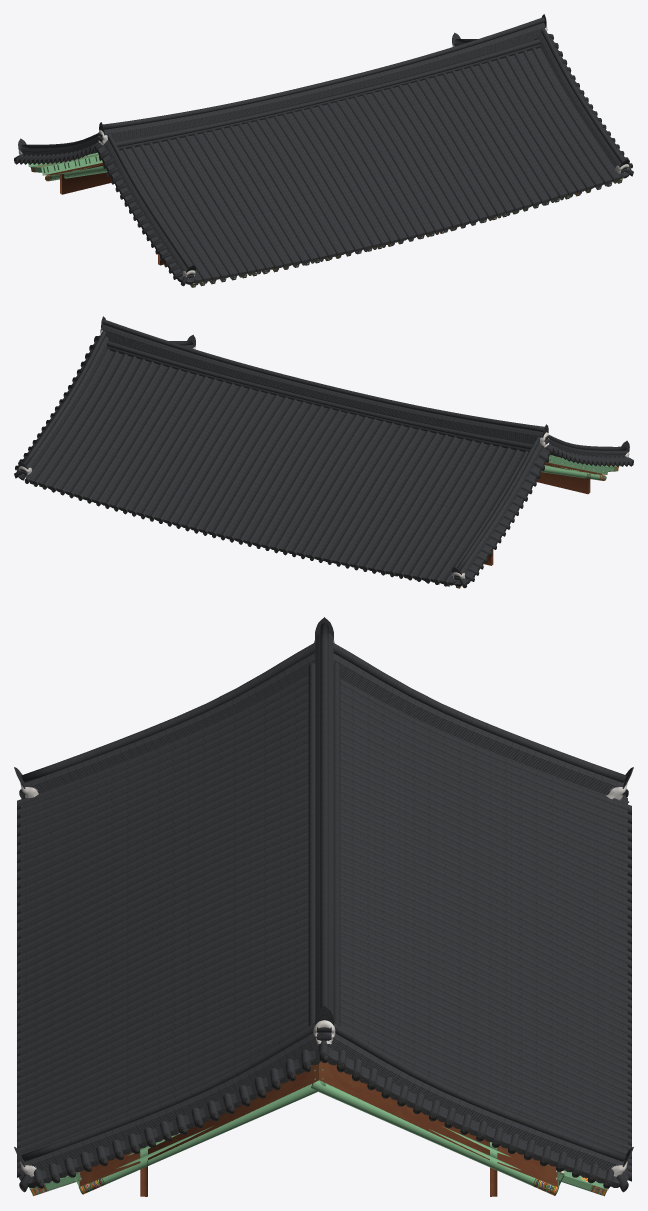
The model's file is SM_Sun_Pal_Roof_A.fbx.
3 views of the same model, one above another, from view 1: azimuth 30°, elevation 25°; view 2: azimuth 150°, elevation 25°; view 3: azimuth 270°, elevation 25° (orthographic). The views are drawn at different scales.
Visible parts, largest first — view 1: SM_Sun_Pal_Roof_A; view 2: SM_Sun_Pal_Roof_A; view 3: SM_Sun_Pal_Roof_A.
Part boxes in pixels (box(x1,y1,x2,y2)): SM_Sun_Pal_Roof_A: box(14, 14, 633, 287); SM_Sun_Pal_Roof_A: box(14, 316, 633, 588); SM_Sun_Pal_Roof_A: box(14, 617, 633, 1196).
Bounding box in the file's own units: 1647 × 399 × 1078.
